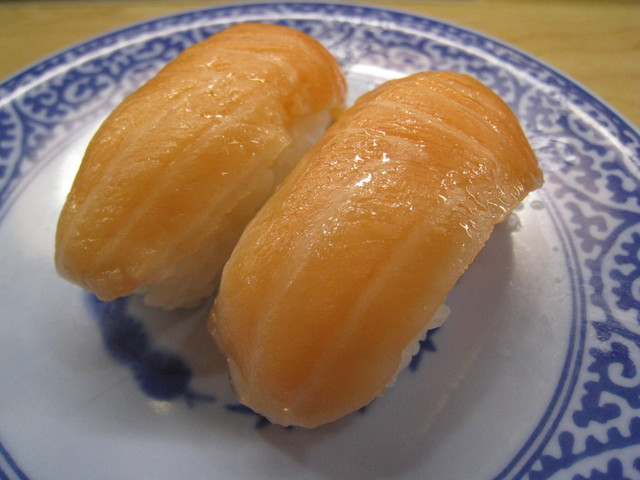salmon: (215, 71, 545, 435), (60, 24, 340, 302)
